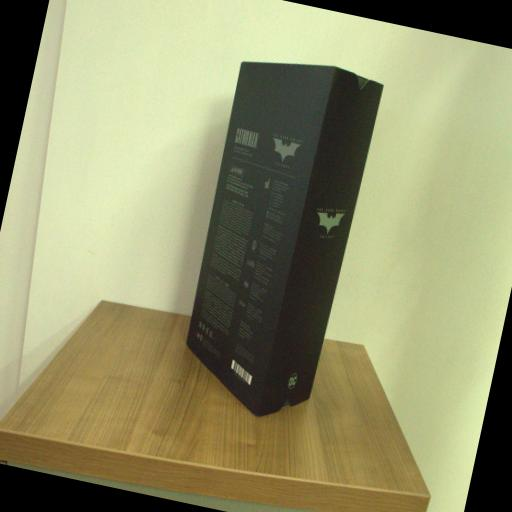catwoman: (170, 50, 386, 428)
